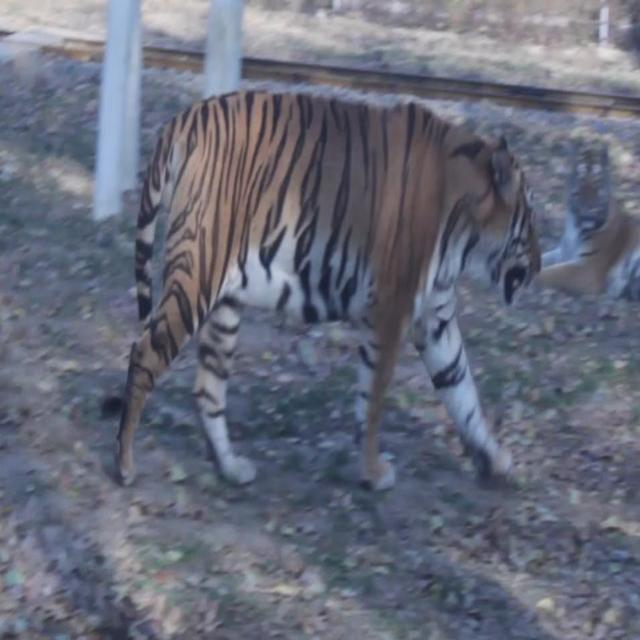tiger: (111, 86, 543, 494), (531, 126, 639, 302)
